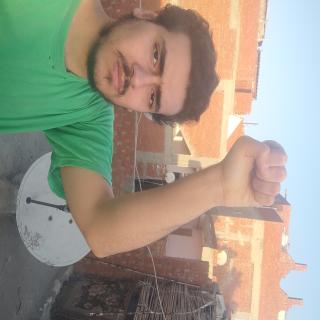SAD: (97, 36, 161, 135)
